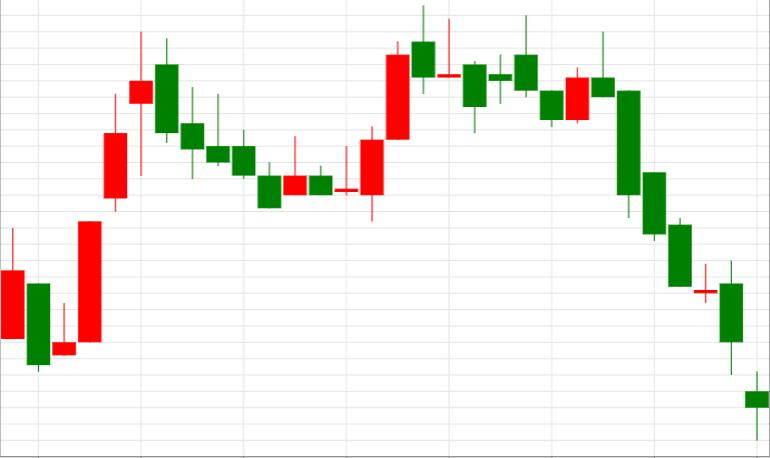three_black_crows_fall: (566, 30, 692, 286)
